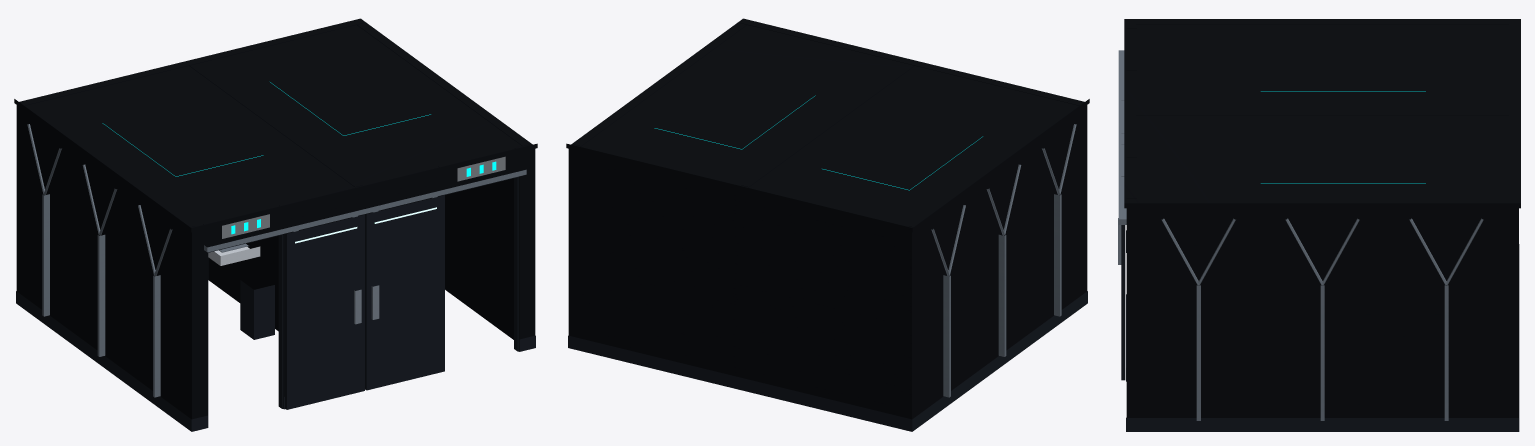
3 renders of one model, left to right at view 1: azimuth 30°, elevation 25°; view 2: azimuth 150°, elevation 25°; view 3: azimuth 270°, elevation 25°, orthographic. The views are drawn at different scales.
Parts seen in each view (by area): view 1: Roof_Slab, Shell_Walls, Leaf_A_Panel, Leaf_B_Panel, Branch_Fins, Base_Band, Door_Jambs, Door_Track, Bin, Sign_Plates, Lavatory; view 2: Shell_Walls, Roof_Slab, Base_Band, Branch_Fins; view 3: Shell_Walls, Roof_Slab, Base_Band, Branch_Fins, Door_Track, Leaf_B_Panel.
Part boxes in pixels (box(x1,y1,x2,y2)): Roof_Slab: box(14, 18, 537, 232); Shell_Walls: box(16, 22, 535, 419); Leaf_A_Panel: box(285, 214, 364, 409); Leaf_B_Panel: box(365, 195, 444, 390); Branch_Fins: box(27, 124, 172, 397); Base_Band: box(16, 291, 535, 431); Door_Jambs: box(208, 177, 518, 414); Door_Track: box(204, 169, 526, 252); Bin: box(240, 280, 274, 339); Sign_Plates: box(222, 156, 505, 238); Lavatory: box(208, 246, 260, 265); Shell_Walls: box(568, 22, 1087, 419); Roof_Slab: box(566, 18, 1089, 232); Base_Band: box(568, 291, 1087, 431); Branch_Fins: box(931, 124, 1076, 397); Shell_Walls: box(1126, 24, 1518, 417); Roof_Slab: box(1124, 19, 1520, 208); Base_Band: box(1126, 230, 1519, 431); Branch_Fins: box(1161, 218, 1483, 420); Door_Track: box(1118, 50, 1126, 224); Leaf_B_Panel: box(1121, 225, 1125, 380).
Size of what is drawn, in the model's own units: 4.45 by 2.45 by 3.9.
Materials: 11 (5 with a texture image).
